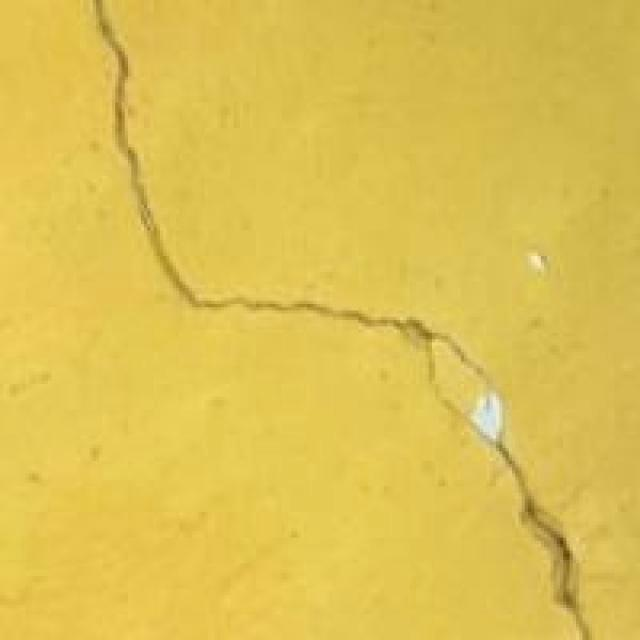crack: (62, 0, 604, 640)
